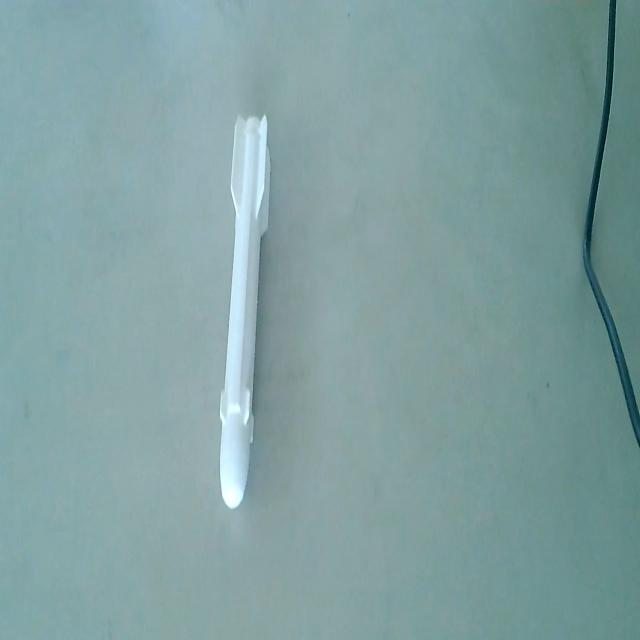Rocket: (218, 107, 272, 516)
